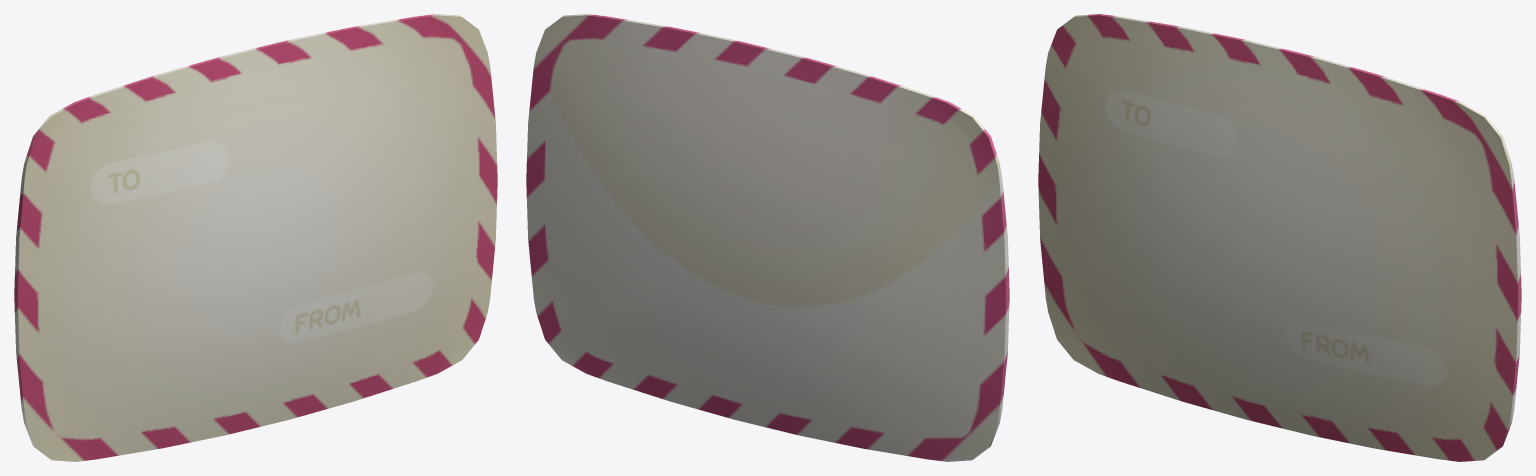
File: ENV2010084.fbx
The picture shows the model from 3 angles, left to right: view 1: azimuth 30°, elevation 25°; view 2: azimuth 150°, elevation 25°; view 3: azimuth 330°, elevation 25°; orthographic projection.
Visible parts, largest first — view 1: smENV2010084; view 2: smENV2010084; view 3: smENV2010084.
Part boxes in pixels (x1,y1,x2,y2): smENV2010084: (14, 14, 497, 461); smENV2010084: (526, 14, 1009, 461); smENV2010084: (1038, 14, 1521, 461).
Bounding box in the file's own units: 16 × 12.04 × 1.32.
1 material, 1 textured.
